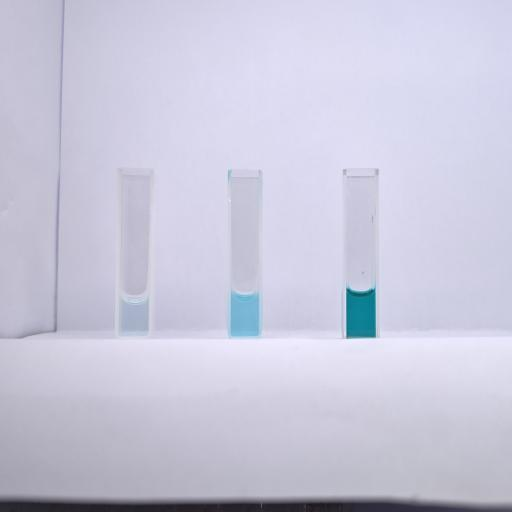cuvette: (114, 165, 156, 341), (340, 165, 381, 340), (226, 166, 264, 340)
liquid: (346, 287, 376, 337), (231, 289, 259, 336), (119, 292, 148, 336)
